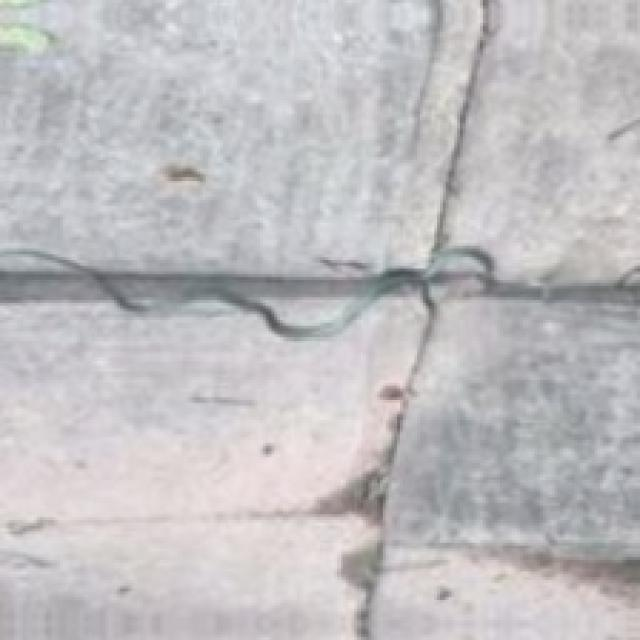paradise tree snake: (206, 246, 496, 338), (0, 251, 139, 311)
